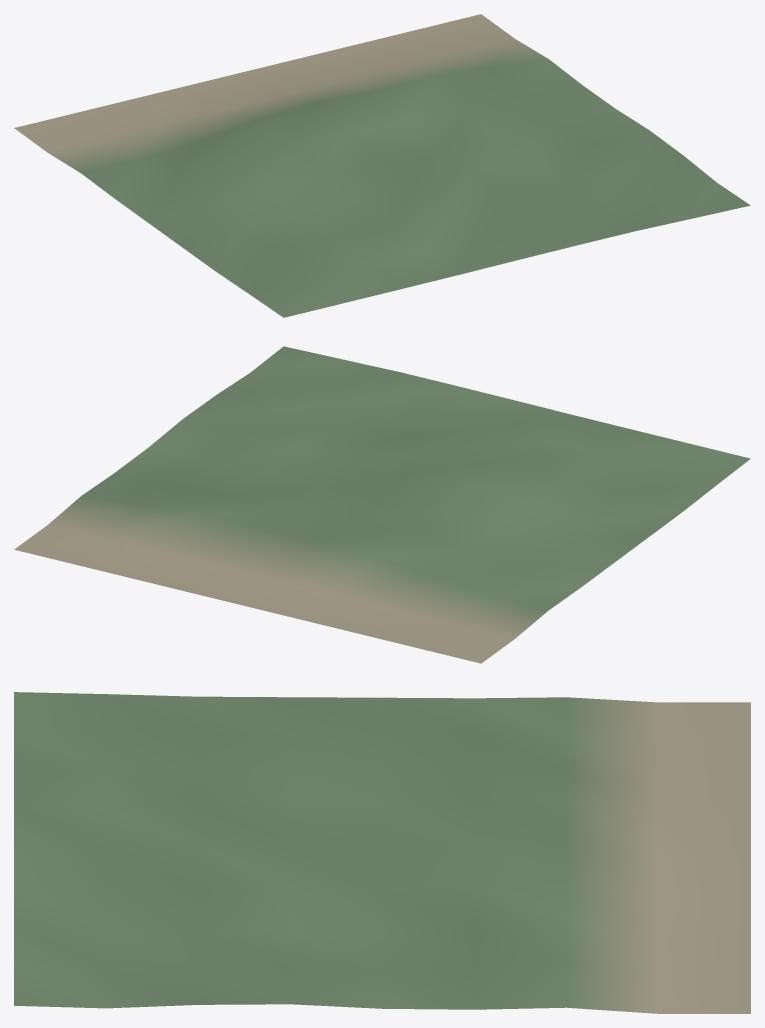
3 views of the same model, one above another, from view 1: azimuth 30°, elevation 25°; view 2: azimuth 150°, elevation 25°; view 3: azimuth 270°, elevation 25° (orthographic). The views are drawn at different scales.
Parts seen in each view (by area): view 1: Lo; view 2: Lo; view 3: Lo.
Part boxes in pixels (x1=…): Lo: x1=14, y1=14, x2=750, y2=317; Lo: x1=14, y1=346, x2=750, y2=663; Lo: x1=14, y1=692, x2=750, y2=1013.
Size of the model in its own units: 256 by 8.91 by 256.
